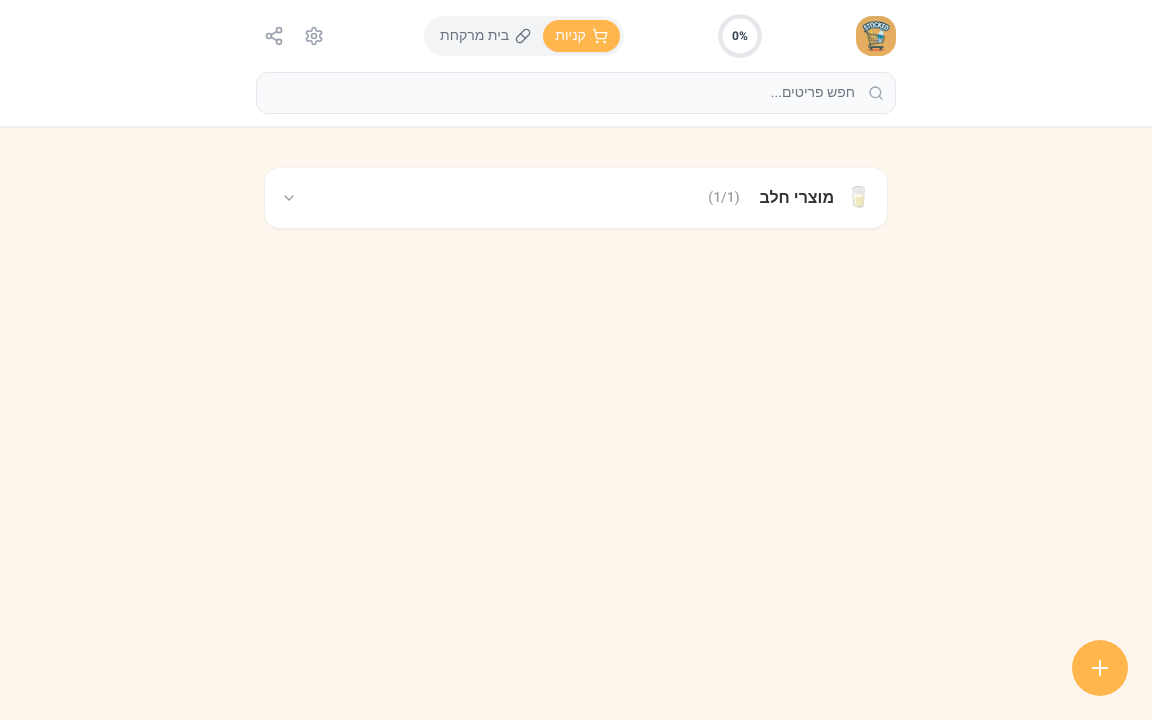
Add item flow (the most basic, must-work journey) › adds an item to a specific category via the inline category input
// Expand the category so its inline "add" input is shown.
Click the heading "מוצרי חלב": (797, 198) top-left (760, 186), bottom-right (834, 210)
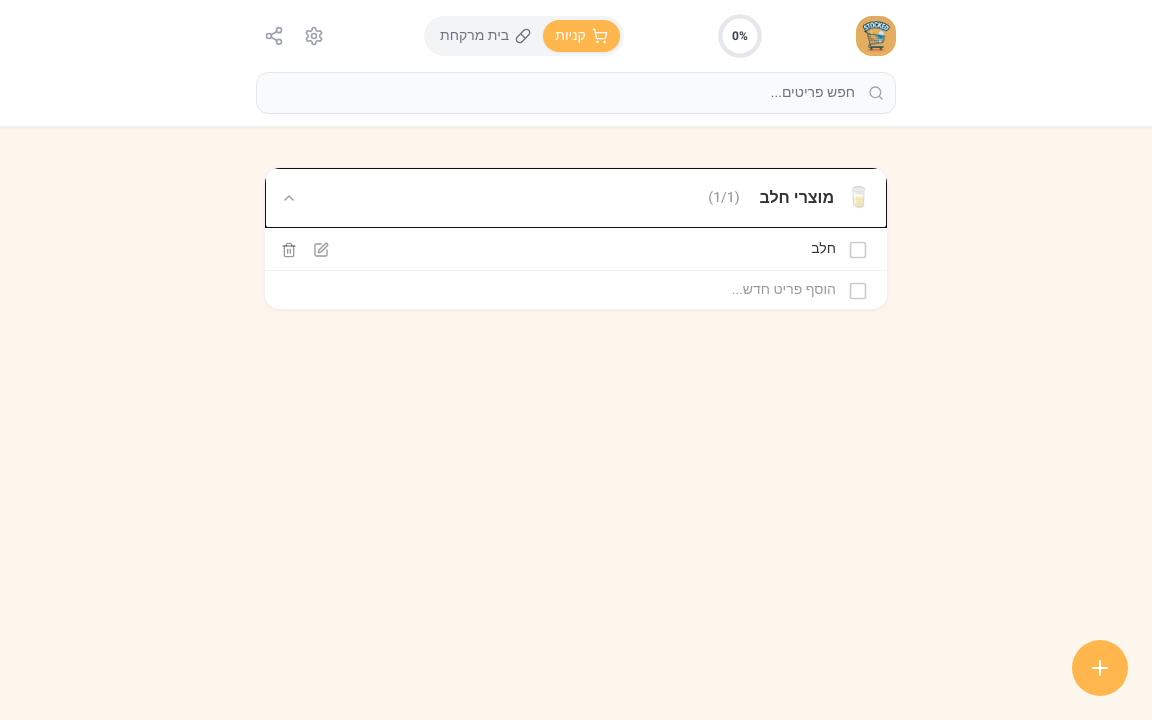
In the field with placeholder "הוסף פריט חדש...": (558, 290) top-left (281, 280), bottom-right (836, 300), type "קוטג"
Then press Enter
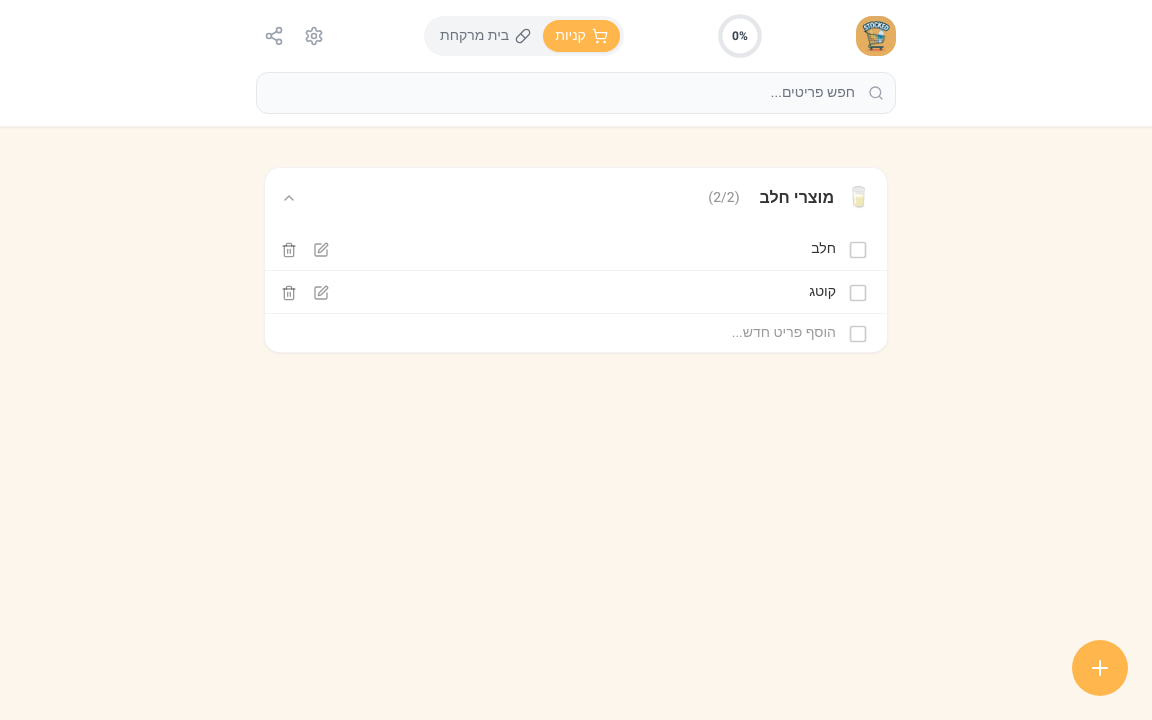
Check: the text "קוטג" is shown, box top-left (809, 282), bottom-right (836, 302)
